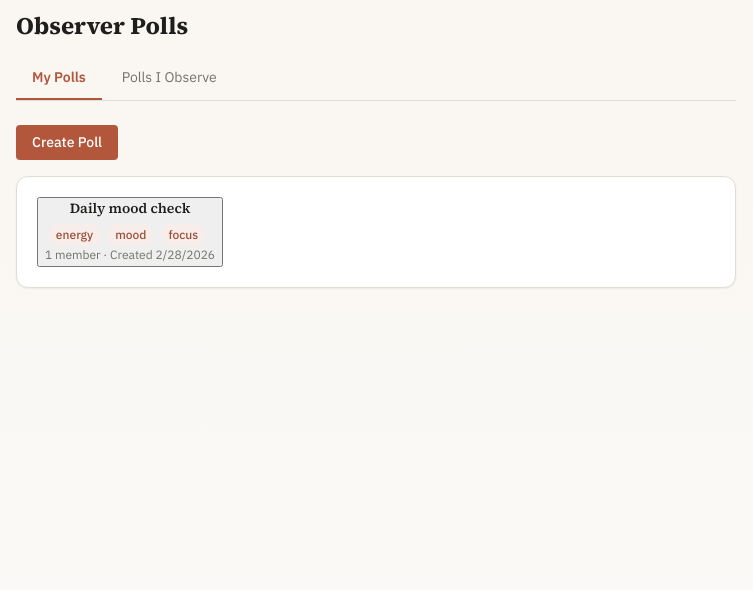
Test case: ObserverPolls page › Poll card expansion › shows members and invite button when expanded
# Click poll header to expand
Click the heading "Daily mood check" at (130, 208), box [70,198,190,218]
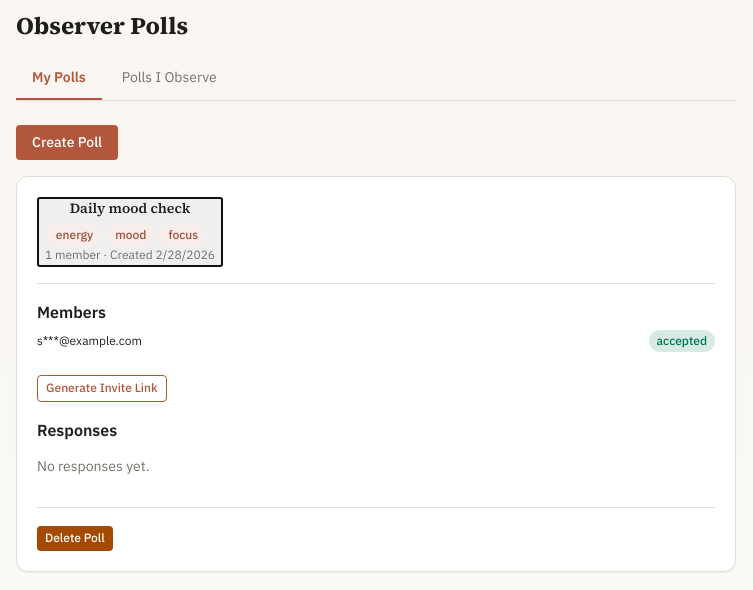
Check: the text "s***@example.com" is shown, box [37,332,142,350]
Check: the text "accepted" is shown, box [648,330,715,352]
Check: the button "Generate Invite Link" is shown, box [37,375,166,402]
